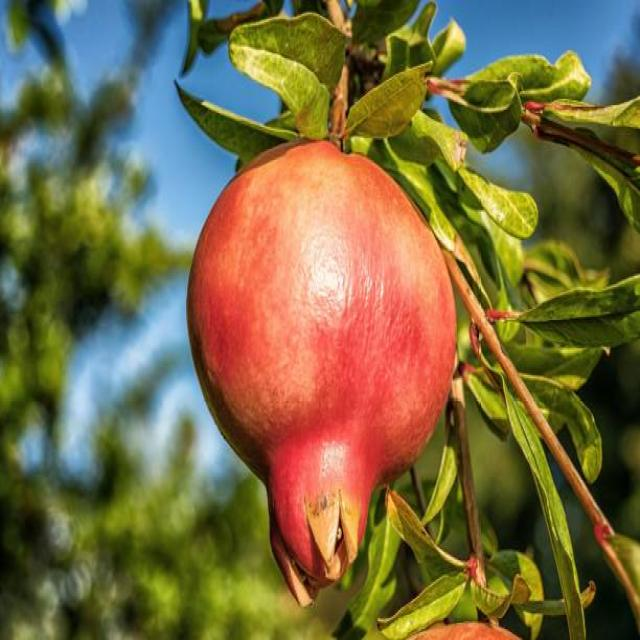Ripe: (173, 136, 460, 612)
